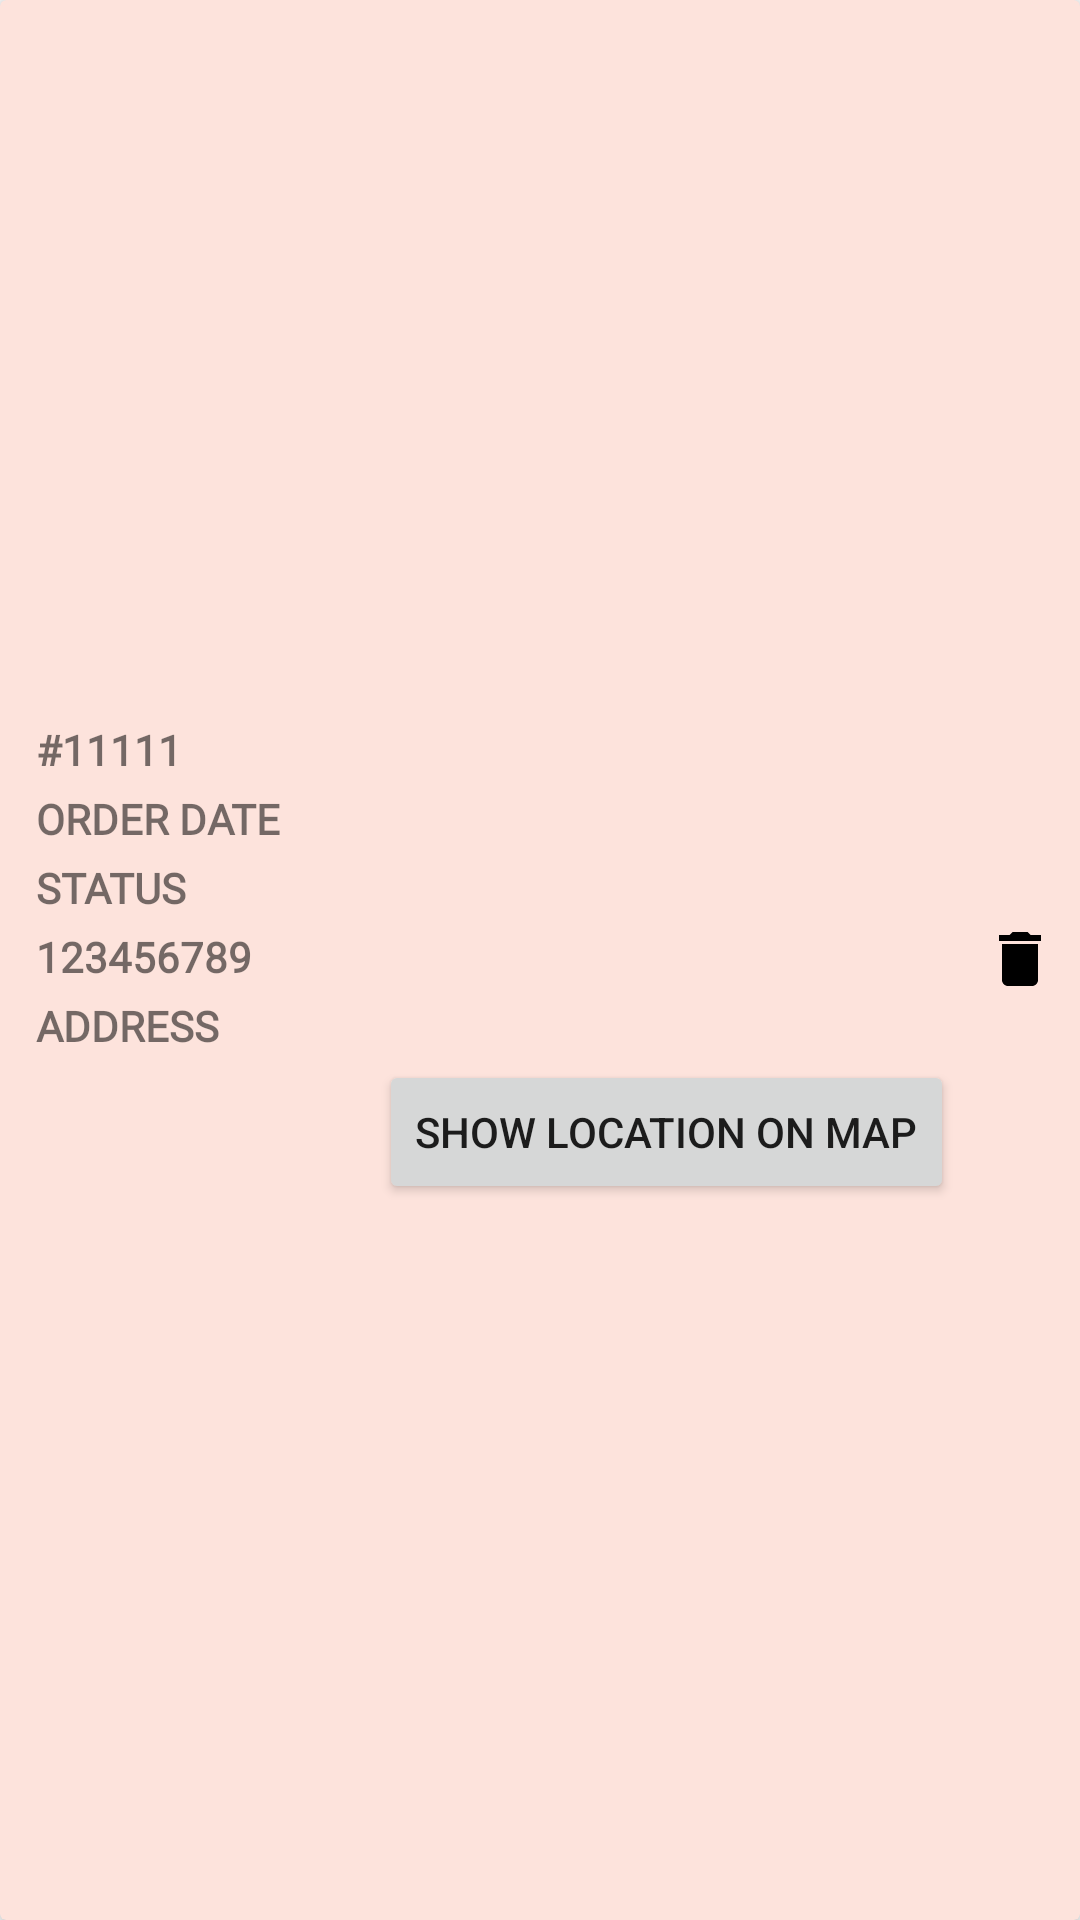

Where to tap for icons on this 1080*1920 app screen, as point (x, y):
delete: point (1020, 959)
